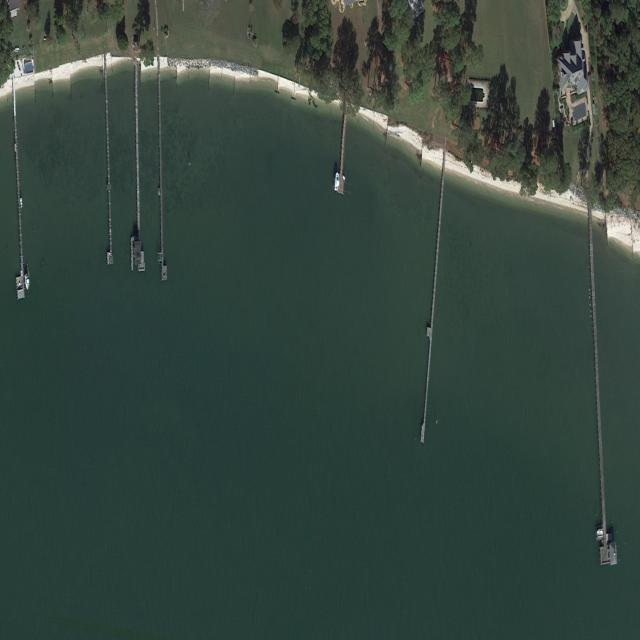ship: (23, 262, 30, 292), (334, 172, 340, 191), (16, 60, 22, 72), (596, 530, 604, 537), (552, 119, 555, 129)
